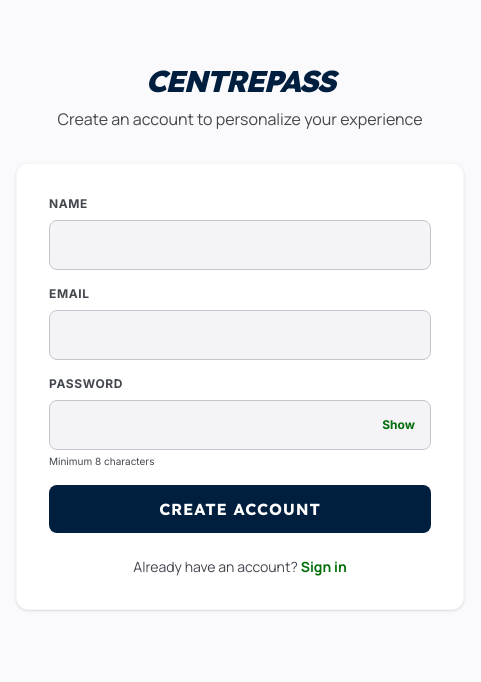
authentication forms › explains that signup succeeded when automatic credentials sign-in fails
Type "New User" into the field labelled "Name".
click(240, 244); type("New User")  # box 49,220 -> 431,270
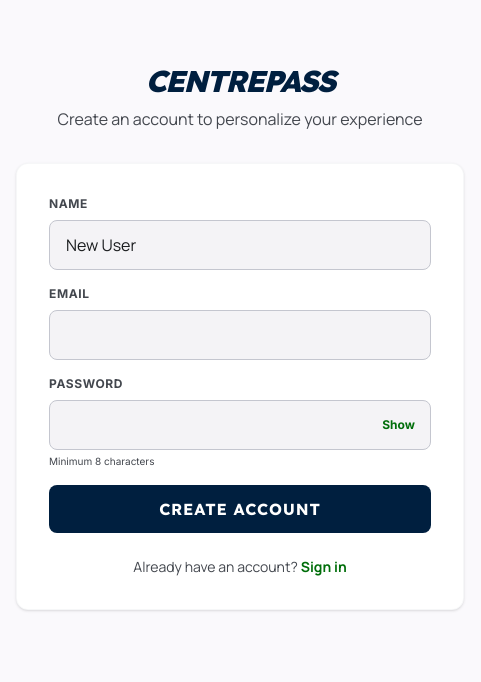
Type "new@example.test" into the field labelled "Email".
click(240, 334); type("new@example.test")  # box 49,310 -> 431,360
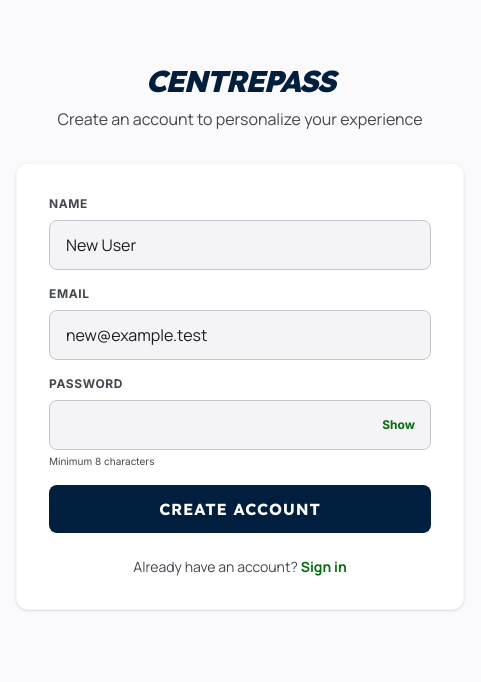
Type "password123" into the password field labelled "Password".
click(240, 424); type("password123")  # box 49,400 -> 431,450
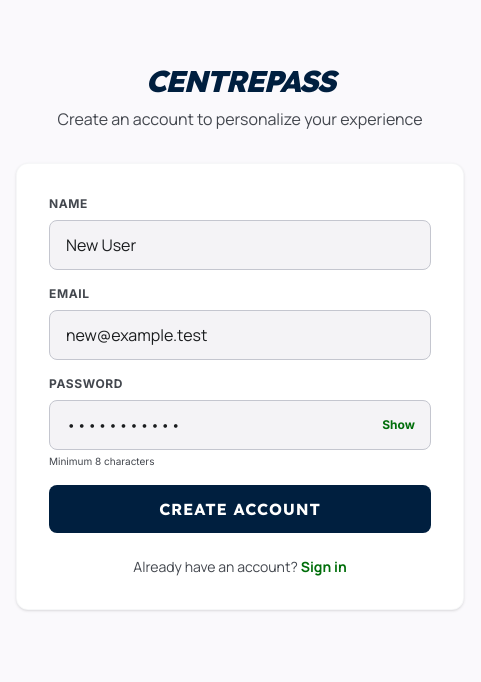
Click the button "Create Account".
click(240, 508)  # box 49,484 -> 431,532
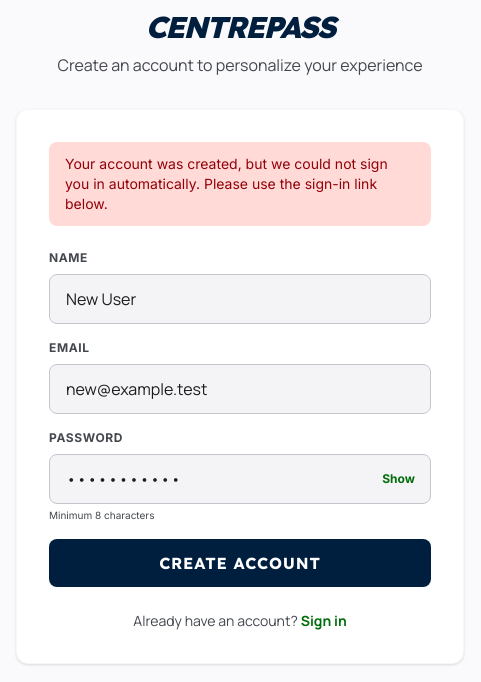
Expected: the button "Create Account" is enabled, 49,538 -> 431,586
Now the message shows "Your account was created, but we could not sign you in automatically.", box 65,154 -> 388,212
